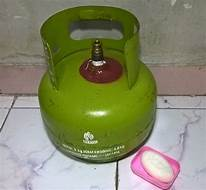gas_ijo: (38, 6, 158, 163)
